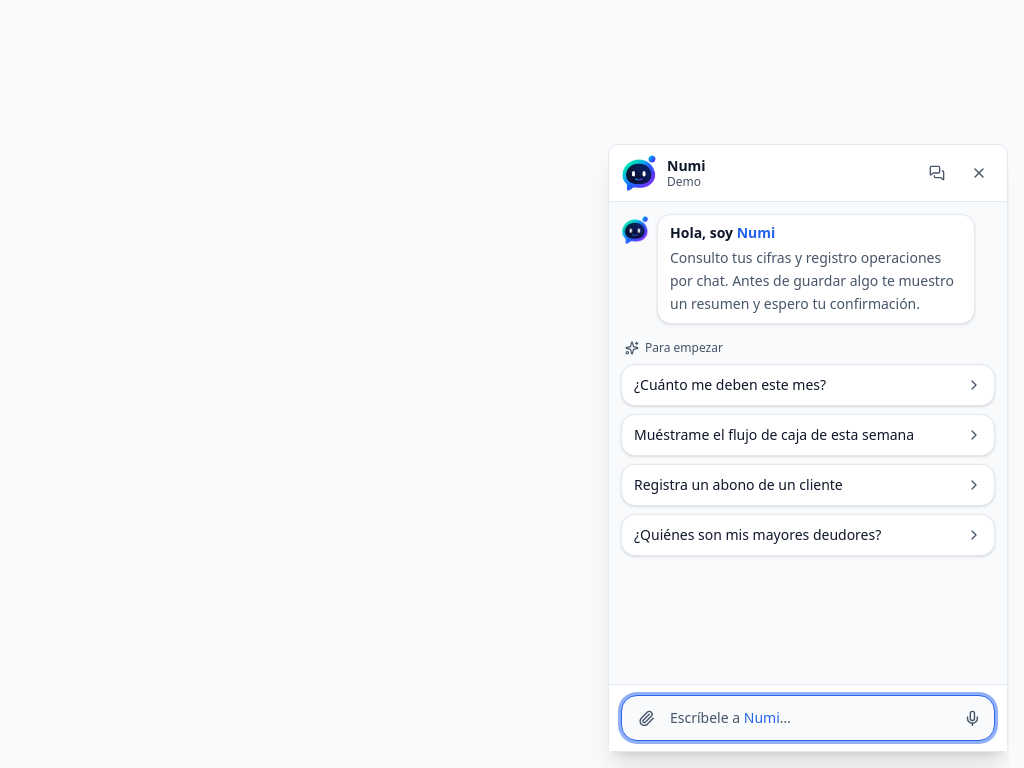
el hilo se guarda: volver a la app no es empezar de cero
The width and height of the screenshot is (1024, 768).
Type "hola" into the text box named "Mensaje para Numi" at {"x": 809, "y": 718}, box [666, 702, 952, 734]
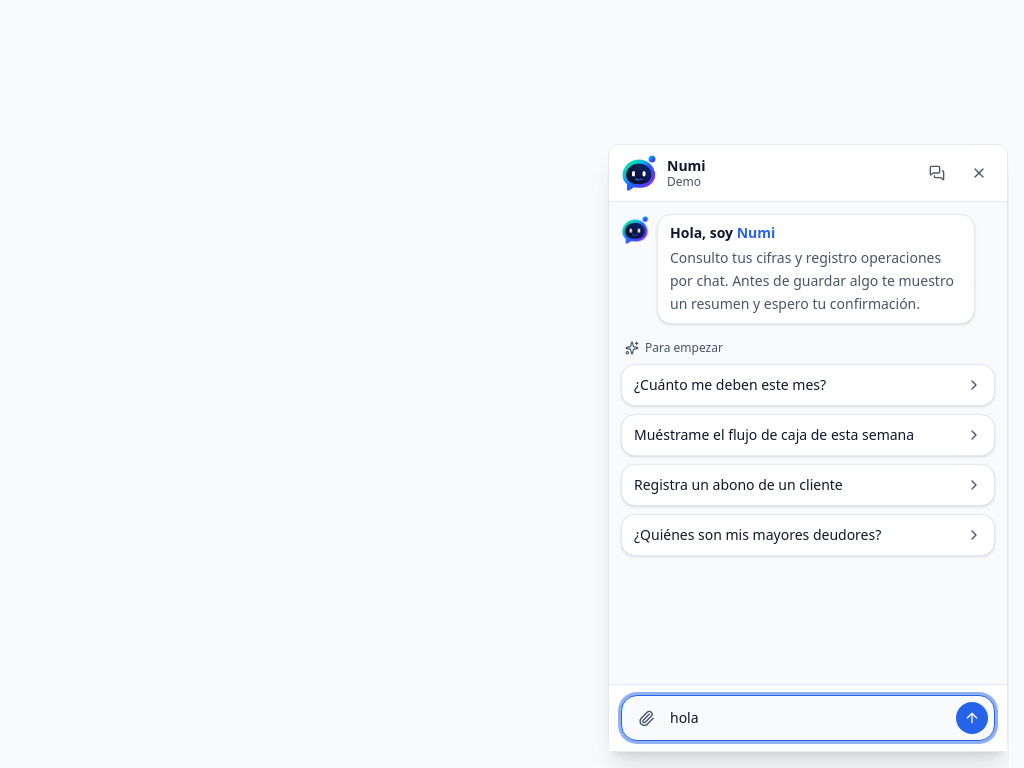
Press Enter
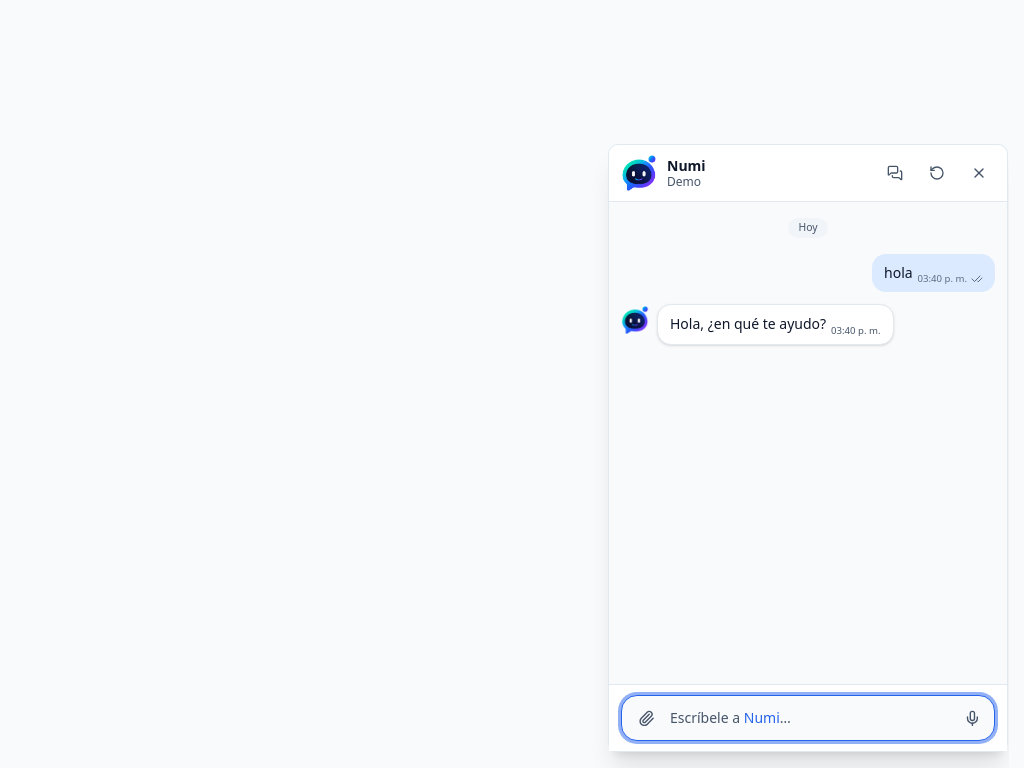
Now the text "Hola, ¿en qué te ayudo?" is shown, box [670, 314, 826, 333]
